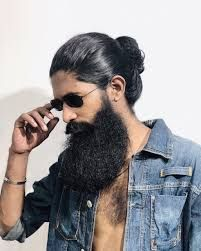no-mask: (44, 32, 150, 150)
